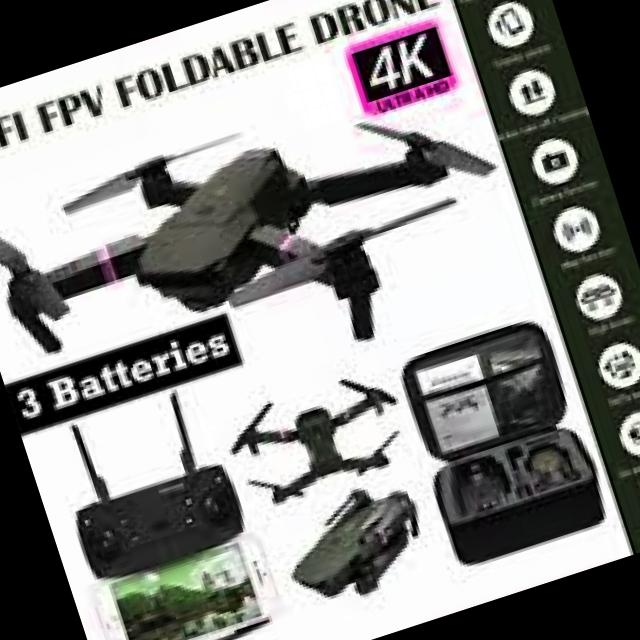drone: (0, 41, 540, 451), (223, 360, 420, 522)
